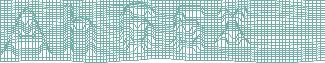5: (171, 4, 207, 55)
6: (117, 1, 158, 54)
A: (1, 5, 53, 60)
h: (62, 3, 99, 58)
x: (214, 7, 253, 49)
